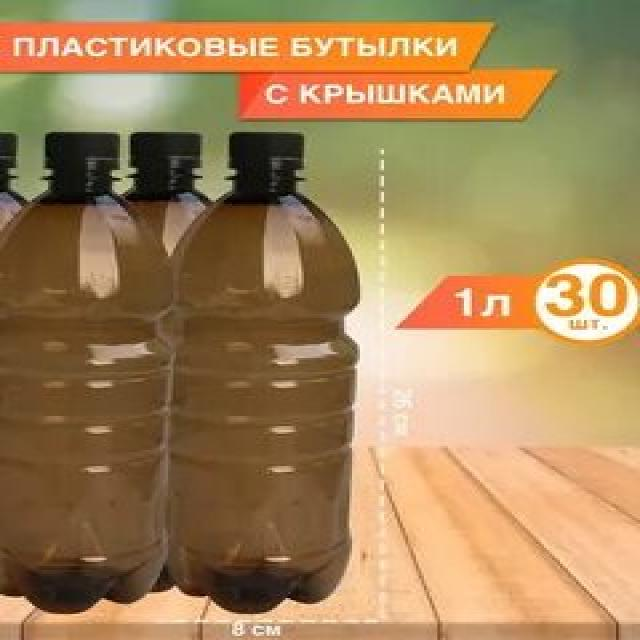brown: (175, 168, 358, 610), (2, 163, 169, 615)
